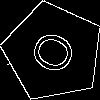O: (28, 27, 87, 82)
